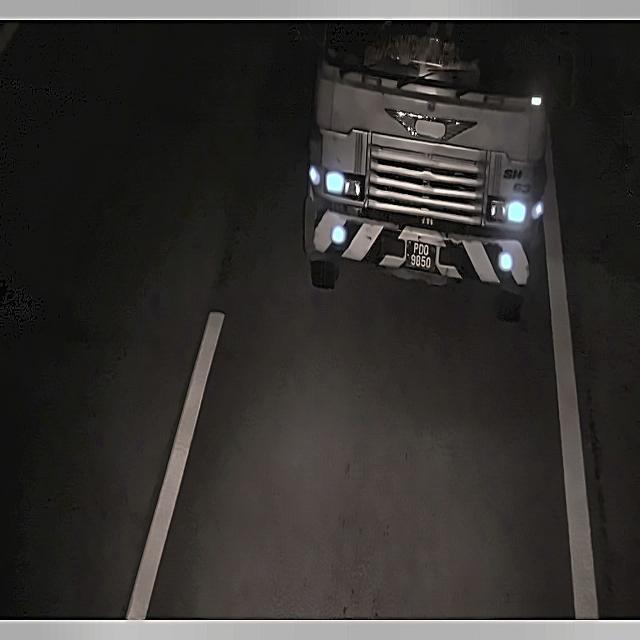car: (403, 233, 439, 278)
